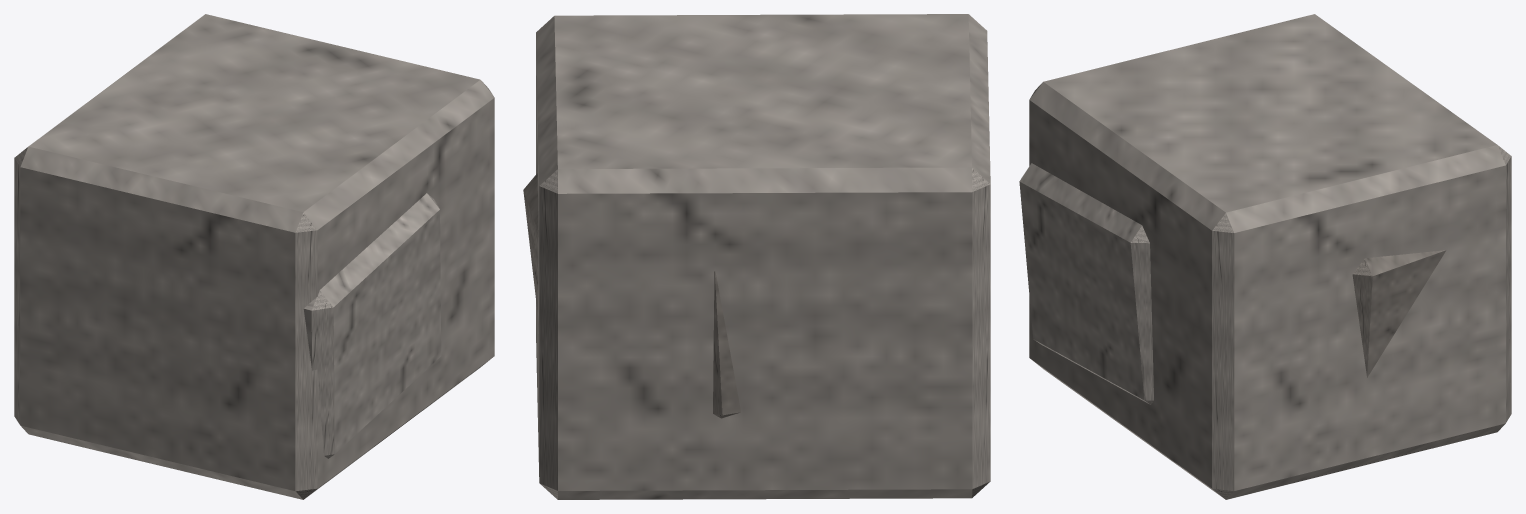
Rendered from Rocher_Petit_B.obj.
3 views of the same model, side by side, from view 1: azimuth 30°, elevation 25°; view 2: azimuth 150°, elevation 25°; view 3: azimuth 270°, elevation 25° (orthographic). The views are drawn at different scales.
Visible parts, largest first — view 1: Rocher_Petit_B; view 2: Rocher_Petit_B; view 3: Rocher_Petit_B.
Boxes of the visible parts, left/top/right/bottom form: Rocher_Petit_B: left=14, top=14, right=494, bottom=499; Rocher_Petit_B: left=523, top=14, right=990, bottom=499; Rocher_Petit_B: left=1019, top=14, right=1511, bottom=499.
Bounding box in the file's own units: 1.85 × 1.18 × 1.83.
1 material, 1 textured.
